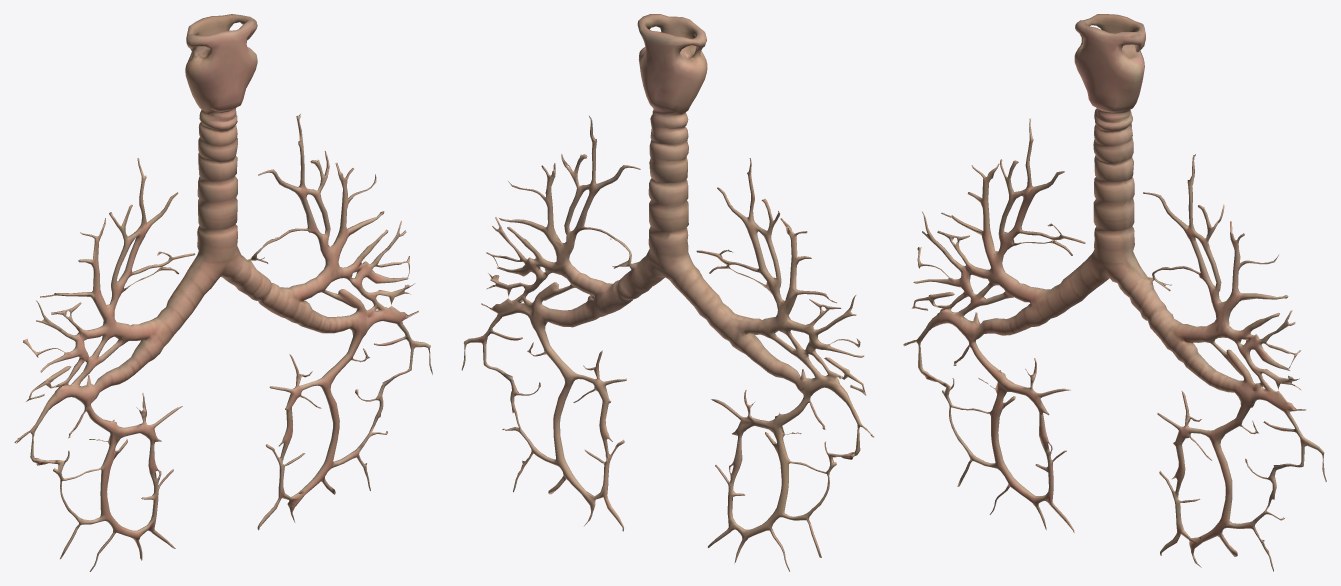
File: bronchi.glb
3 renders of one model, left to right at view 1: azimuth 30°, elevation 25°; view 2: azimuth 150°, elevation 25°; view 3: azimuth 330°, elevation 25°, orthographic. The views are drawn at different scales.
Parts seen in each view (by area): view 1: Bronchi; view 2: Bronchi; view 3: Bronchi.
Boxes of the visible parts, x1=… form: Bronchi: x1=14, y1=14, x2=432, y2=571; Bronchi: x1=461, y1=14, x2=874, y2=571; Bronchi: x1=903, y1=14, x2=1326, y2=571.
Size of the model in its own units: 0.1641 by 0.1969 by 0.0184.
Materials: 1 (1 with a texture image).
